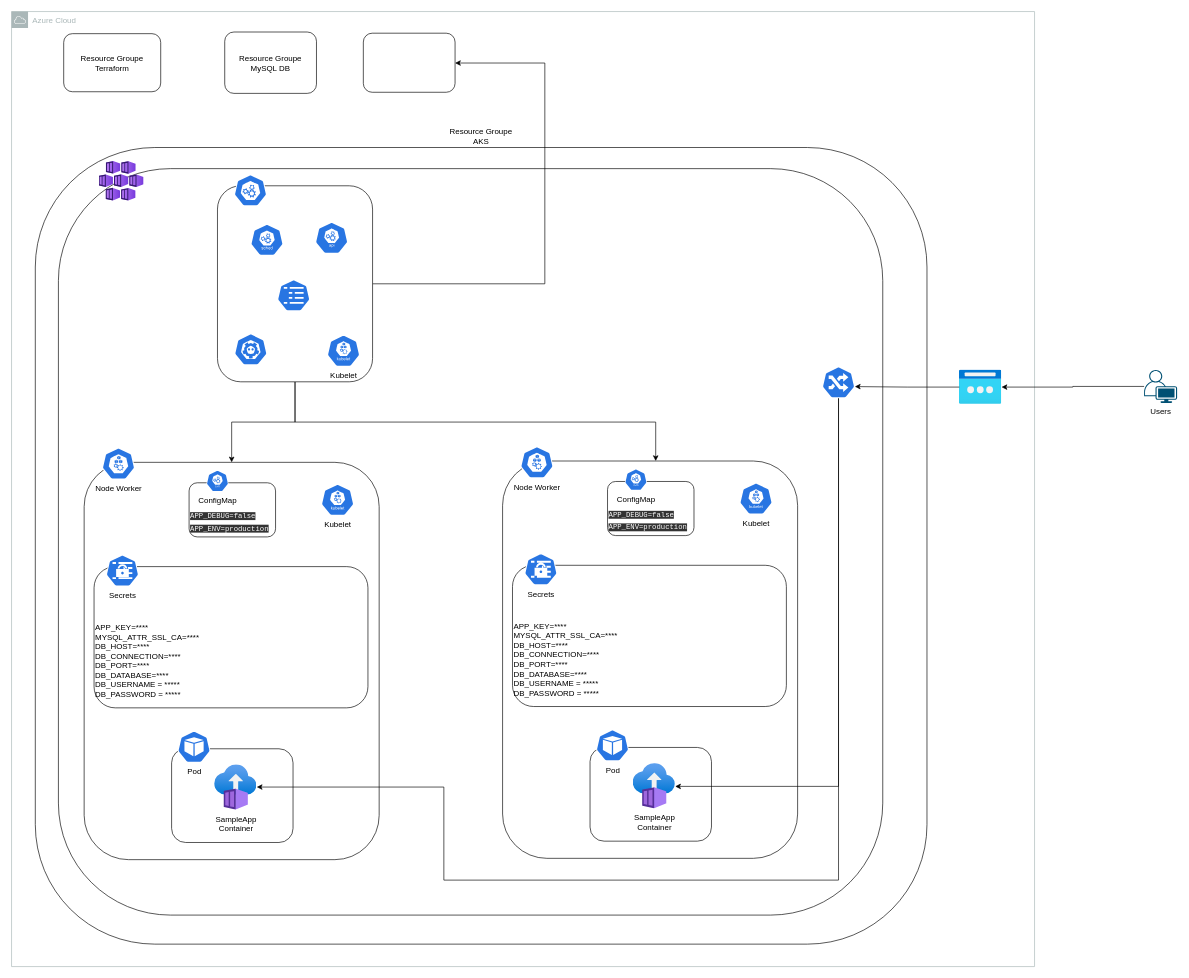
This 1189x978 diagram has some shape labels left out. The shapes that lost their labels are listed below. From the top down, each one's centre as x and y in pixels, then its label:
(409,62): Resource Groupe Container Registry
(121,181): AKS
(250,190): Node Master
(266,239): Shedule
(331,237): Kubernetes API
(293,295): Control Manager
(250,349): etcd
(838,382): Ingress
(980,387): Public IP
